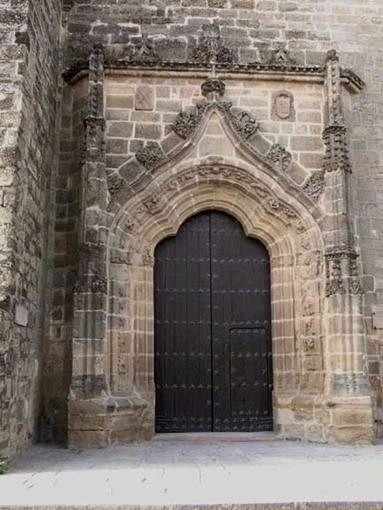arco-trilobulado: (144, 194, 284, 271)
